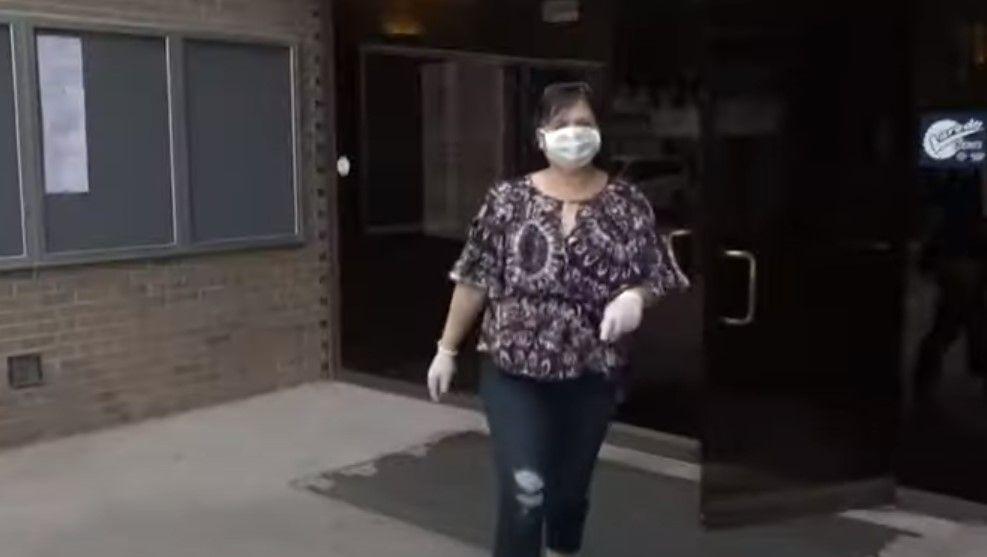face_with_mask: (527, 76, 608, 175)
